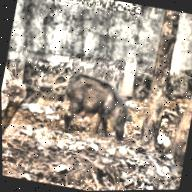boar: (55, 68, 134, 144)
